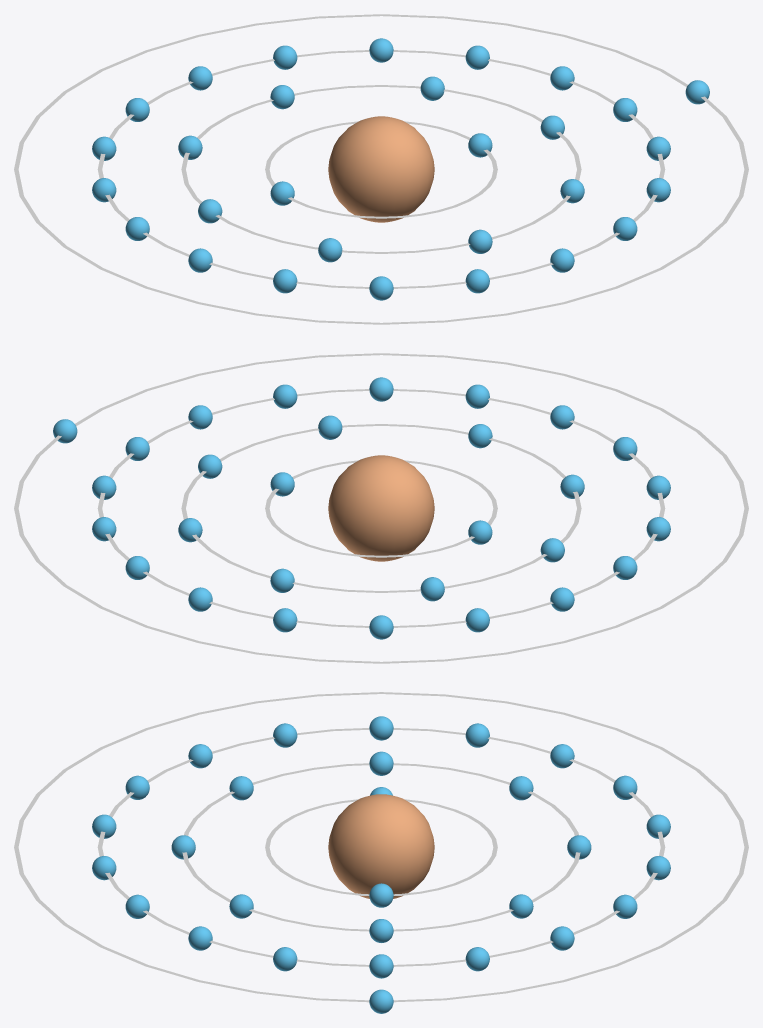
The model's file is copper_atom.glb.
3 views of the same model, one above another, from view 1: azimuth 30°, elevation 25°; view 2: azimuth 150°, elevation 25°; view 3: azimuth 270°, elevation 25° (orthographic).
Parts seen in each view (by area): view 1: nucleus_node, shell_ring_3, shell_ring_2, shell_ring_1, shell_ring_0; view 2: nucleus_node, shell_ring_3, shell_ring_2, shell_ring_1, shell_ring_0; view 3: nucleus_node, shell_ring_3, shell_ring_2, shell_ring_1, shell_ring_0.
Boxes of the visible parts, x1=… form: nucleus_node: x1=328, y1=116, x2=434, y2=222; shell_ring_3: x1=14, y1=14, x2=748, y2=324; shell_ring_2: x1=97, y1=50, x2=665, y2=288; shell_ring_1: x1=181, y1=85, x2=581, y2=253; shell_ring_0: x1=265, y1=121, x2=497, y2=218; nucleus_node: x1=328, y1=455, x2=434, y2=561; shell_ring_3: x1=14, y1=353, x2=748, y2=663; shell_ring_2: x1=97, y1=389, x2=665, y2=627; shell_ring_1: x1=181, y1=424, x2=581, y2=592; shell_ring_0: x1=265, y1=460, x2=497, y2=557; nucleus_node: x1=328, y1=794, x2=434, y2=898; shell_ring_3: x1=14, y1=692, x2=748, y2=1002; shell_ring_2: x1=97, y1=728, x2=665, y2=966; shell_ring_1: x1=182, y1=763, x2=580, y2=931; shell_ring_0: x1=265, y1=799, x2=497, y2=895.
Bounding box in the file's own units: 4.9 × 0.7 × 4.83.
